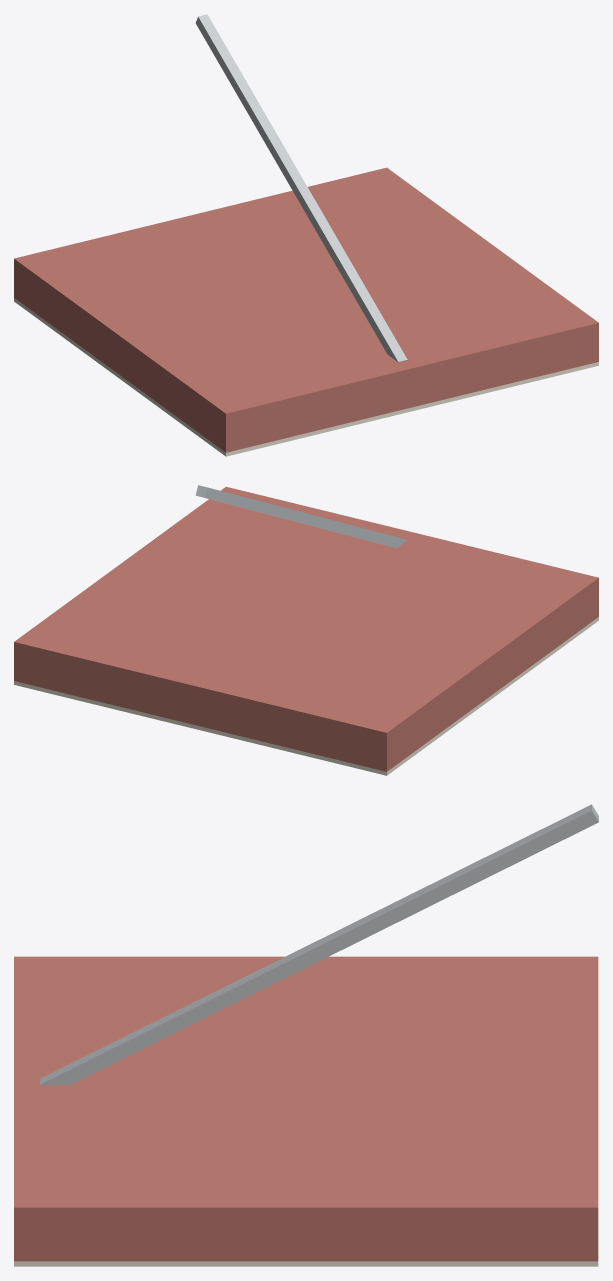
Rendered from entry_canopy.glb.
3 renders of one model, top to bottom at view 1: azimuth 30°, elevation 25°; view 2: azimuth 150°, elevation 25°; view 3: azimuth 270°, elevation 25°, orthographic. The views are drawn at different scales.
Visible parts, largest first — view 1: entry_canopy_canopy, entry_canopy_steel, entry_canopy_trim; view 2: entry_canopy_canopy, entry_canopy_trim, entry_canopy_steel; view 3: entry_canopy_canopy, entry_canopy_steel, entry_canopy_trim.
Boxes of the visible parts, bbox=[...] form: entry_canopy_canopy: bbox=[14, 167, 598, 452]; entry_canopy_steel: bbox=[195, 14, 407, 362]; entry_canopy_trim: bbox=[14, 298, 598, 456]; entry_canopy_canopy: bbox=[14, 486, 598, 771]; entry_canopy_trim: bbox=[14, 617, 598, 775]; entry_canopy_steel: bbox=[195, 485, 407, 547]; entry_canopy_canopy: bbox=[14, 956, 598, 1261]; entry_canopy_steel: bbox=[40, 804, 598, 1085]; entry_canopy_trim: bbox=[14, 1261, 598, 1266].
Size of the model in its own units: 2 by 1.24 by 1.97.
